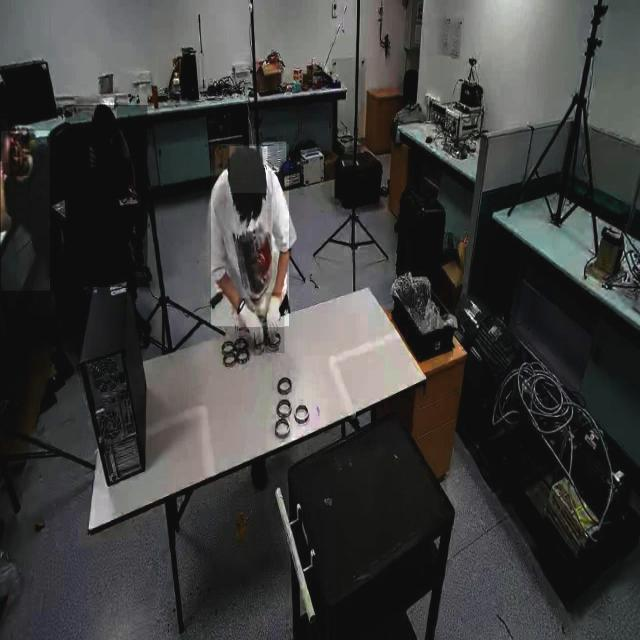face_nomask: (9, 133, 29, 177)
hand_glove: (238, 298, 260, 356), (265, 292, 285, 354)
head_nohelmet: (229, 146, 267, 194), (93, 103, 117, 132), (0, 119, 8, 164)
person: (64, 105, 148, 288), (211, 144, 289, 327), (0, 130, 50, 292)
